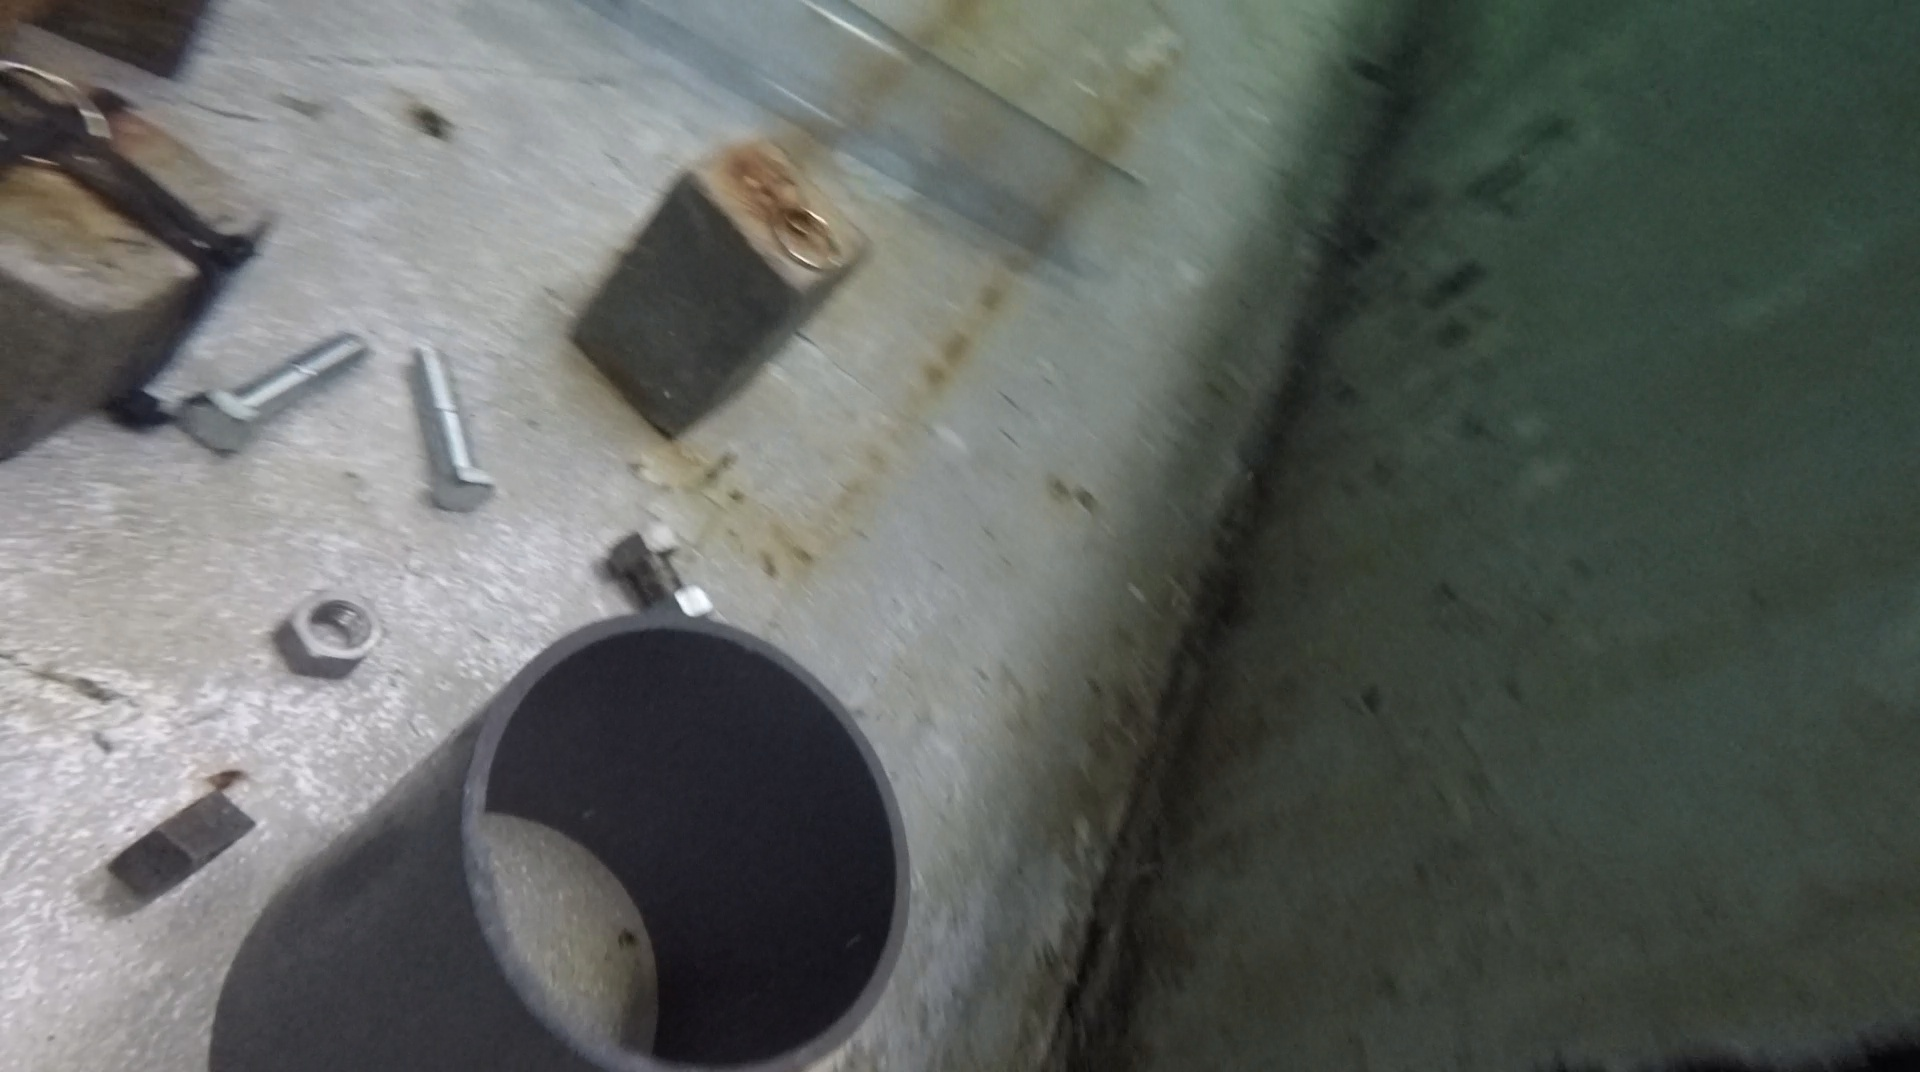bolt: (183, 332, 369, 454), (413, 342, 498, 512), (611, 523, 683, 597)
led_block: (1, 62, 274, 465), (571, 131, 878, 442), (7, 1, 208, 76)
nut: (107, 785, 257, 901), (269, 591, 390, 680), (646, 585, 716, 617)
pipe: (208, 612, 915, 1072), (584, 1, 1153, 285)
